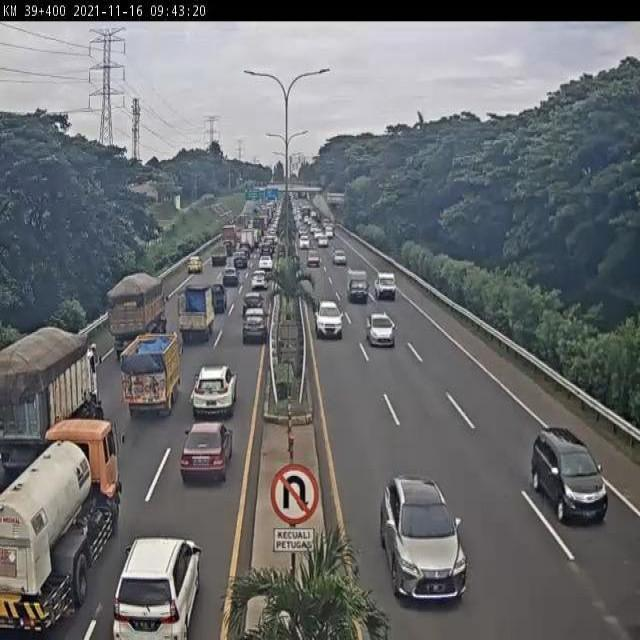car: (380, 473, 467, 607), (528, 423, 615, 531), (112, 536, 201, 640), (180, 421, 233, 487), (192, 363, 236, 420), (366, 311, 397, 349), (315, 300, 343, 341), (242, 305, 268, 344), (345, 267, 370, 305), (374, 272, 398, 303), (242, 291, 264, 319), (210, 280, 227, 315), (221, 264, 240, 291), (251, 268, 268, 292), (187, 256, 204, 275)
truck: (0, 418, 122, 634), (0, 327, 101, 475), (122, 331, 179, 420), (109, 272, 165, 360), (180, 279, 217, 340)
